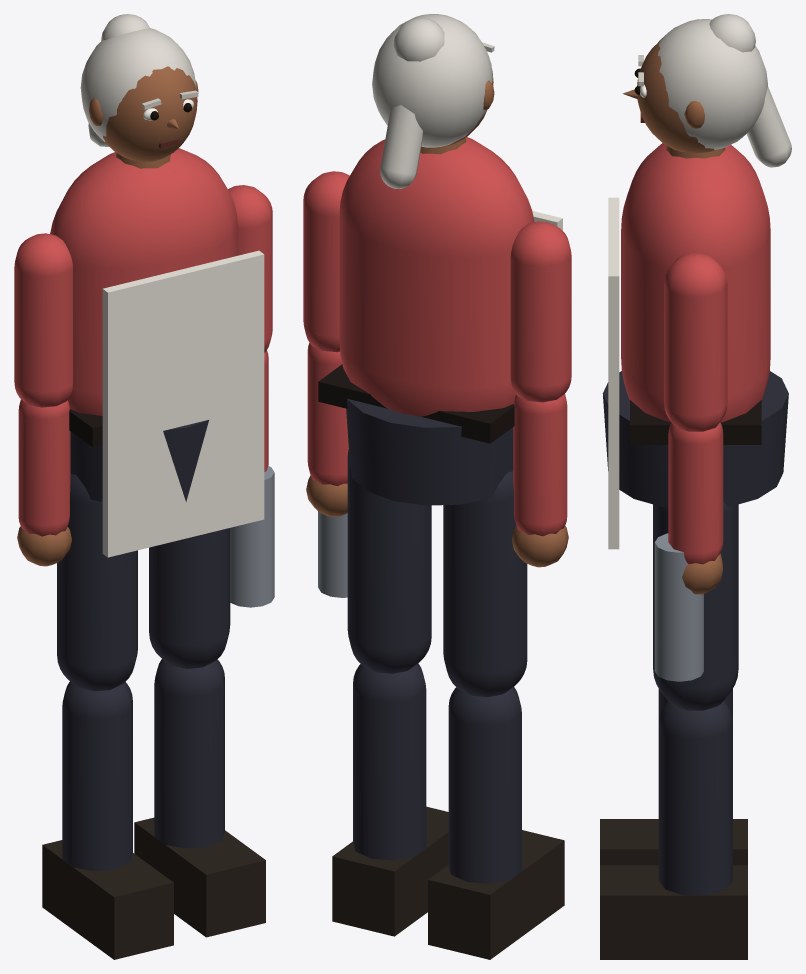
File: worker_cida.glb
3 views of the same model, side by side, from view 1: azimuth 30°, elevation 25°; view 2: azimuth 150°, elevation 25°; view 3: azimuth 270°, elevation 25° (orthographic). The views are drawn at different scales.
Parts seen in each view (by area): view 1: worker_torso, worker_legs_0_knee, worker_legs_1_knee, worker_head, worker_legs_0_hip, worker_legs_1_hip, worker_arms_0_sh, worker_arms_0_el, worker_prop, worker_arms_1_sh, worker_arms_0_hand, worker_arms_1_el; view 2: worker_torso, worker_legs_0_knee, worker_legs_1_knee, worker_legs_0_hip, worker_head, worker_legs_1_hip, worker_arms_0_sh, worker_arms_0_el, worker_arms_1_sh, worker_arms_1_el, worker_prop, worker_arms_0_hand (+1 smaller); view 3: worker_torso, worker_legs_1_knee, worker_head, worker_arms_1_sh, worker_legs_1_hip, worker_arms_1_el, worker_prop, worker_legs_0_knee, worker_arms_1_hand.
Part boxes in pixels (x1,y1,x2,y2): worker_torso: (50,148,264,557); worker_legs_0_knee: (42,681,173,959); worker_legs_1_knee: (134,659,265,937); worker_head: (80,14,198,161); worker_legs_0_hip: (57,474,137,691); worker_legs_1_hip: (149,528,230,668); worker_arms_0_sh: (14,233,72,407); worker_arms_0_el: (18,399,70,536); worker_prop: (230,466,274,607); worker_arms_1_sh: (228,185,272,352); worker_arms_0_hand: (17,526,71,566); worker_arms_1_el: (264,350,268,471); worker_torso: (318,137,562,505); worker_legs_0_knee: (428,687,564,959); worker_legs_1_knee: (332,663,448,936); worker_legs_0_hip: (443,471,527,696); worker_head: (372,14,494,188); worker_legs_1_hip: (347,449,431,673); worker_arms_0_sh: (510,221,571,402); worker_arms_0_el: (513,394,567,536); worker_arms_1_sh: (303,171,349,352); worker_arms_1_el: (307,343,348,485); worker_prop: (318,511,347,597); worker_arms_0_hand: (512,526,568,567); worker_torso: (602,143,788,549); worker_legs_1_knee: (600,701,747,959); worker_head: (622,14,791,167); worker_arms_1_sh: (664,253,727,431); worker_legs_1_hip: (653,502,738,710); worker_arms_1_el: (668,422,723,564); worker_prop: (654,533,703,681); worker_legs_0_knee: (600,689,747,865); worker_arms_1_hand: (682,553,722,594).
Size of the model in its own units: 0.5403 by 1.82 by 0.3505.
